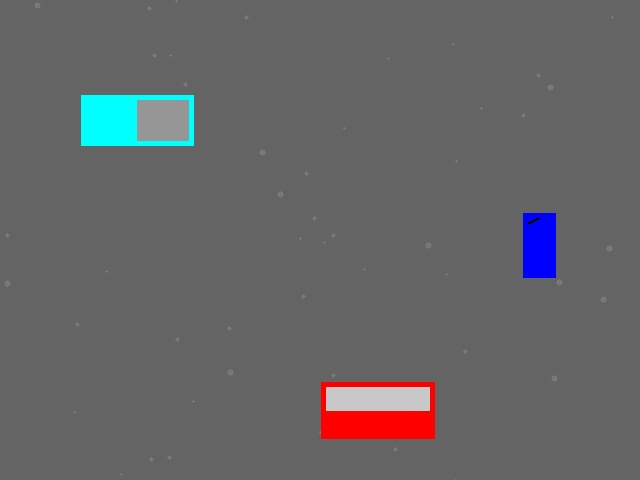car: (321, 382, 434, 438)
motorcycle: (523, 213, 555, 277)
truck: (81, 95, 193, 145)
